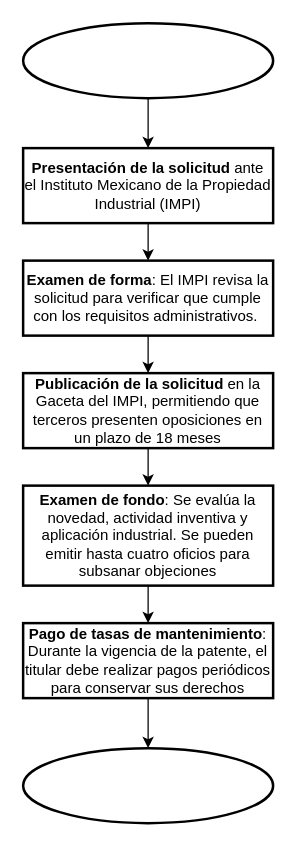
Some shapes in this 295 by 845 pixel diagram are drawn without their labels. Here are the shapes that lost their labels. From the top down, the box of each, then its label:
(21, 21, 274, 99): Inicio
(21, 746, 274, 824): Fin
